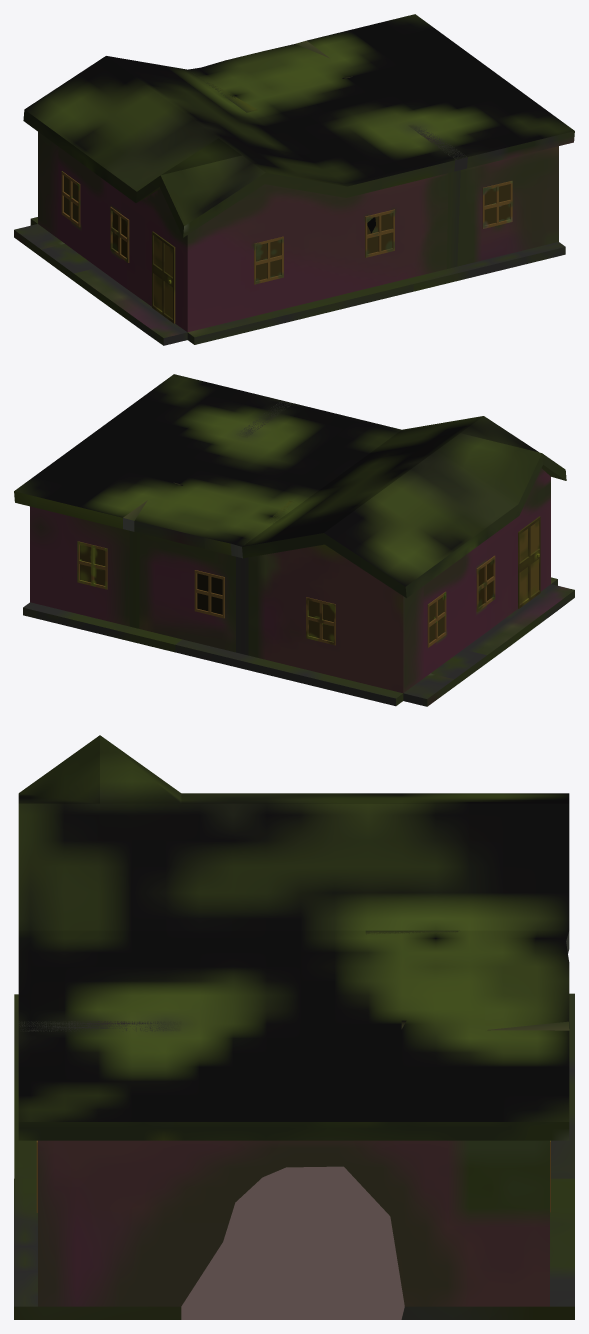
Rendered from CasasInicial.fbx.
3 renders of one model, top to bottom at view 1: azimuth 30°, elevation 25°; view 2: azimuth 150°, elevation 25°; view 3: azimuth 270°, elevation 25°, orthographic. The views are drawn at different scales.
Parts seen in each view (by area): view 1: CasaiInicial; view 2: CasaiInicial; view 3: CasaiInicial.
Boxes of the visible parts, x1,y1,x2,y2 form: CasaiInicial: [14, 14, 574, 345]; CasaiInicial: [14, 374, 574, 706]; CasaiInicial: [14, 735, 574, 1319].
Size of the model in its own units: 12554 by 4533 by 8698.
1 material, 1 textured.
